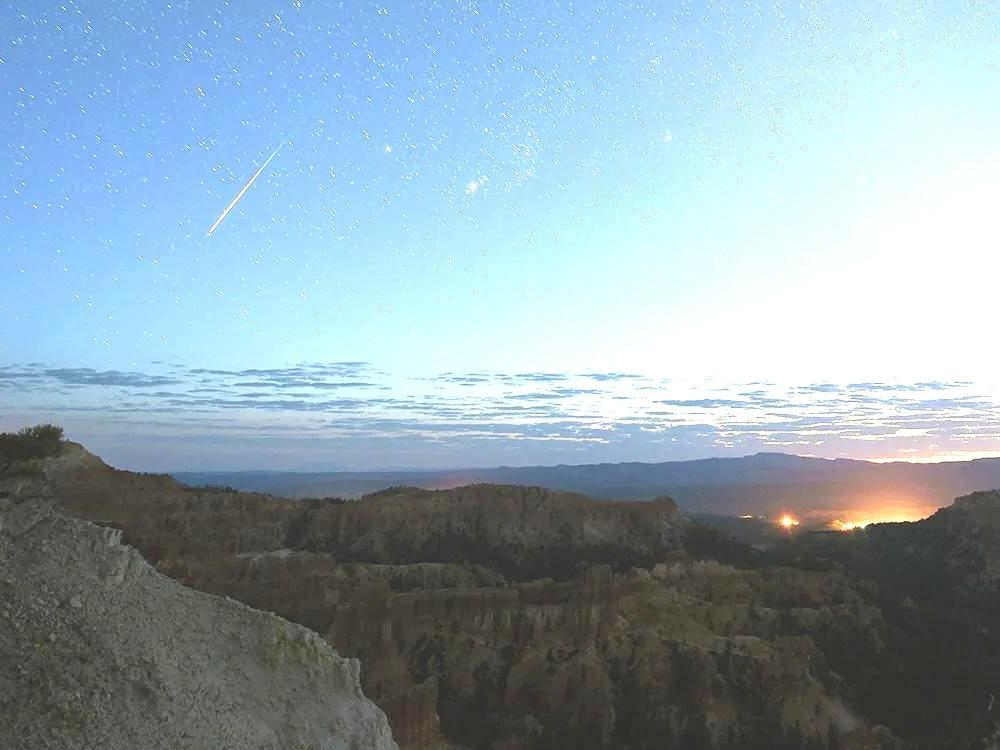meteorite: (190, 147, 282, 247)
